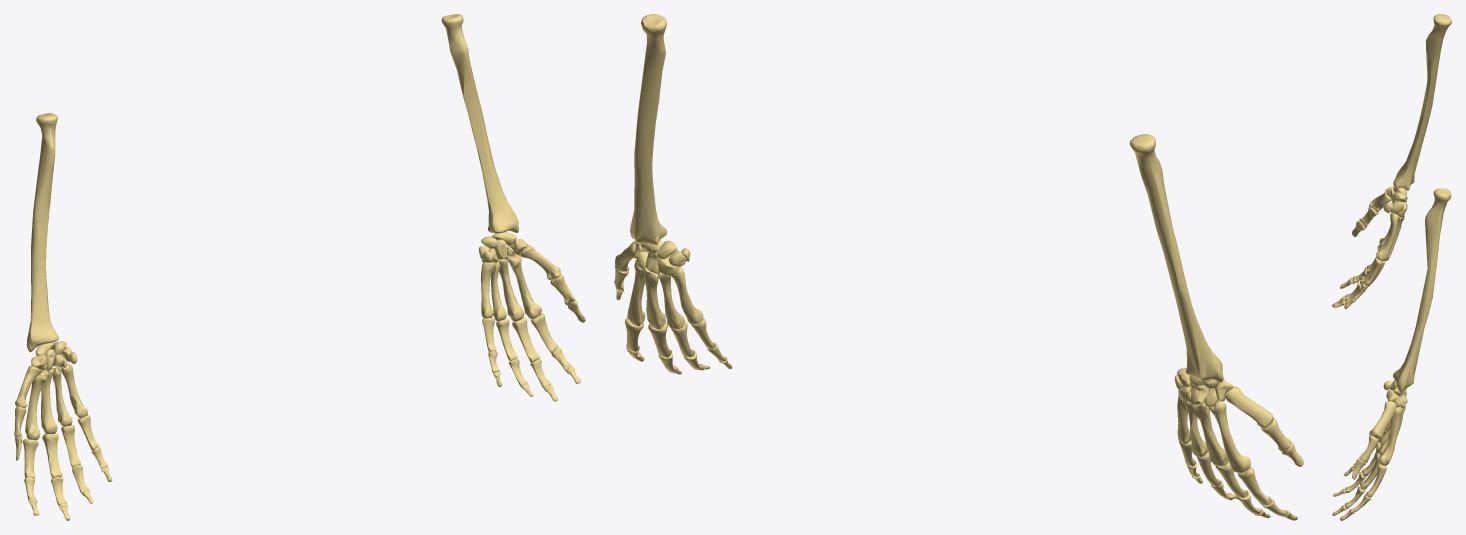
The model's file is wrist-hand.glb.
3 views of the same model, side by side, from view 1: azimuth 30°, elevation 25°; view 2: azimuth 150°, elevation 25°; view 3: azimuth 270°, elevation 25° (orthographic). The views are drawn at different scales.
Parts seen in each view (by area): view 1: wrist-hand:radius:isa:FJ3349, wrist-hand:radius:isa:FJ3277, wrist-hand:second-metacarpal-bone:isa:FJ3352, wrist-hand:second-metacarpal-bone:isa:FJ3243, wrist-hand:third-metacarpal-bone:isa:FJ3246, wrist-hand:third-metacarpal-bone:isa:FJ3354; view 2: wrist-hand:radius:isa:FJ3349, wrist-hand:radius:isa:FJ3277, wrist-hand:second-metacarpal-bone:isa:FJ3352, wrist-hand:third-metacarpal-bone:isa:FJ3354, wrist-hand:first-metacarpal-bone:isa:FJ3350, wrist-hand:third-metacarpal-bone:isa:FJ3246; view 3: wrist-hand:radius:isa:FJ3277, wrist-hand:radius:isa:FJ3349, wrist-hand:second-metacarpal-bone:isa:FJ3243, wrist-hand:first-metacarpal-bone:isa:FJ3240, wrist-hand:fifth-metacarpal-bone:isa:FJ3358, wrist-hand:proximal-phalanx-of-index-finger:isa:FJ3313, wrist-hand:first-metacarpal-bone:isa:FJ3350, wrist-hand:proximal-phalanx-of-middle-finger:isa:FJ3316, wrist-hand:proximal-phalanx-of-thumb:isa:FJ3318, wrist-hand:proximal-phalanx-of-thumb:isa:FJ3327, wrist-hand:proximal-phalanx-of-little-finger:isa:FJ3323, wrist-hand:proximal-phalanx-of-ring-finger:isa:FJ3317 (+3 smaller).
Part boxes in pixels (x1=…): wrist-hand:radius:isa:FJ3349: x1=26, y1=113, x2=58, y2=352; wrist-hand:radius:isa:FJ3277: x1=441, y1=14, x2=518, y2=233; wrist-hand:second-metacarpal-bone:isa:FJ3352: x1=25, y1=370, x2=48, y2=440; wrist-hand:second-metacarpal-bone:isa:FJ3243: x1=506, y1=253, x2=541, y2=318; wrist-hand:third-metacarpal-bone:isa:FJ3246: x1=498, y1=259, x2=524, y2=321; wrist-hand:third-metacarpal-bone:isa:FJ3354: x1=41, y1=369, x2=57, y2=434; wrist-hand:radius:isa:FJ3349: x1=1129, y1=134, x2=1223, y2=382; wrist-hand:radius:isa:FJ3277: x1=630, y1=14, x2=667, y2=244; wrist-hand:second-metacarpal-bone:isa:FJ3352: x1=1208, y1=400, x2=1250, y2=473; wrist-hand:third-metacarpal-bone:isa:FJ3354: x1=1193, y1=401, x2=1228, y2=465; wrist-hand:first-metacarpal-bone:isa:FJ3350: x1=1225, y1=386, x2=1273, y2=428; wrist-hand:third-metacarpal-bone:isa:FJ3246: x1=643, y1=267, x2=665, y2=329; wrist-hand:radius:isa:FJ3277: x1=1393, y1=188, x2=1451, y2=392; wrist-hand:radius:isa:FJ3349: x1=1393, y1=14, x2=1451, y2=190; wrist-hand:second-metacarpal-bone:isa:FJ3243: x1=1379, y1=407, x2=1401, y2=465; wrist-hand:first-metacarpal-bone:isa:FJ3240: x1=1369, y1=401, x2=1396, y2=439; wrist-hand:fifth-metacarpal-bone:isa:FJ3358: x1=1377, y1=213, x2=1398, y2=260; wrist-hand:proximal-phalanx-of-index-finger:isa:FJ3313: x1=1366, y1=463, x2=1386, y2=497; wrist-hand:first-metacarpal-bone:isa:FJ3350: x1=1369, y1=189, x2=1391, y2=211; wrist-hand:proximal-phalanx-of-middle-finger:isa:FJ3316: x1=1360, y1=453, x2=1380, y2=489; wrist-hand:proximal-phalanx-of-thumb:isa:FJ3318: x1=1359, y1=435, x2=1378, y2=462; wrist-hand:proximal-phalanx-of-thumb:isa:FJ3327: x1=1359, y1=206, x2=1378, y2=227; wrist-hand:proximal-phalanx-of-little-finger:isa:FJ3323: x1=1364, y1=257, x2=1382, y2=285; wrist-hand:proximal-phalanx-of-ring-finger:isa:FJ3317: x1=1362, y1=442, x2=1380, y2=476.
Bounding box in the file's own units: 0.6478 × 0.382 × 0.1343.
